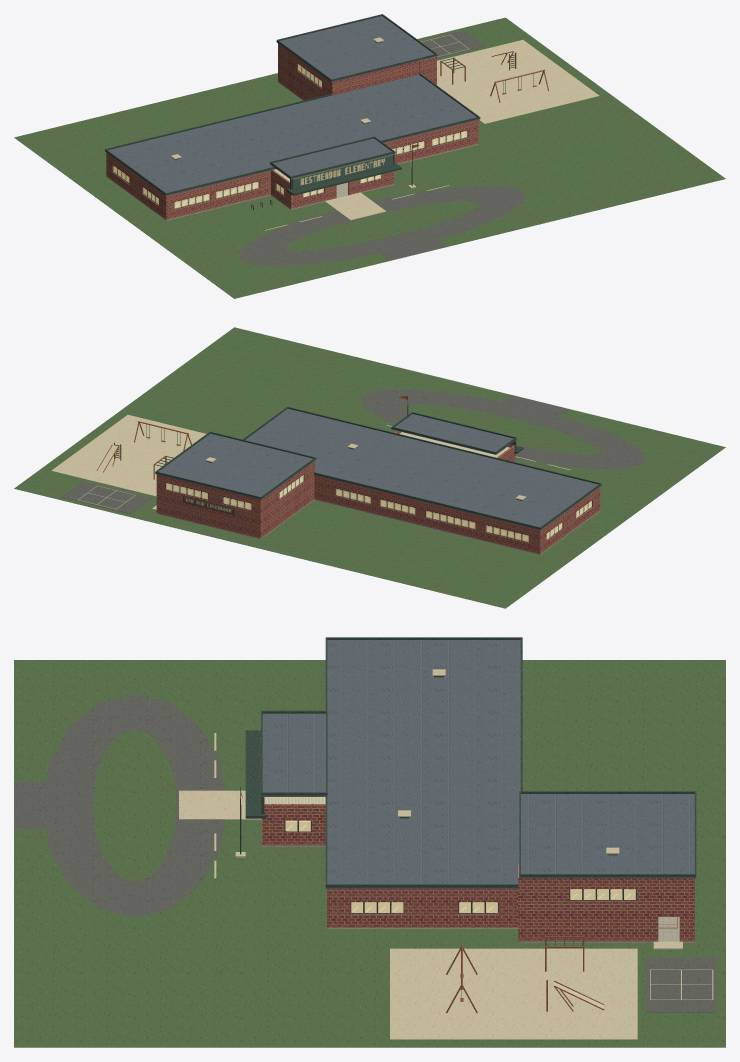
Rendered from westmeadow-1955-far.glb.
3 renders of one model, top to bottom at view 1: azimuth 30°, elevation 25°; view 2: azimuth 150°, elevation 25°; view 3: azimuth 270°, elevation 25°, orthographic. The views are drawn at different scales.
Visible parts, largest first — view 1: lot, building_shell, sign_name; view 2: lot, building_shell; view 3: lot, building_shell.
Part boxes in pixels (bbox=[...]): lot: bbox=[14, 17, 725, 298]; building_shell: bbox=[105, 14, 480, 220]; sign_name: bbox=[292, 154, 393, 189]; lot: bbox=[14, 327, 725, 608]; building_shell: bbox=[152, 406, 601, 554]; lot: bbox=[14, 660, 725, 1047]; building_shell: bbox=[245, 637, 696, 949].
Size of what is drawn, in the model's own units: 85 by 7.13 by 66.
Materials: 11 (11 with a texture image).
